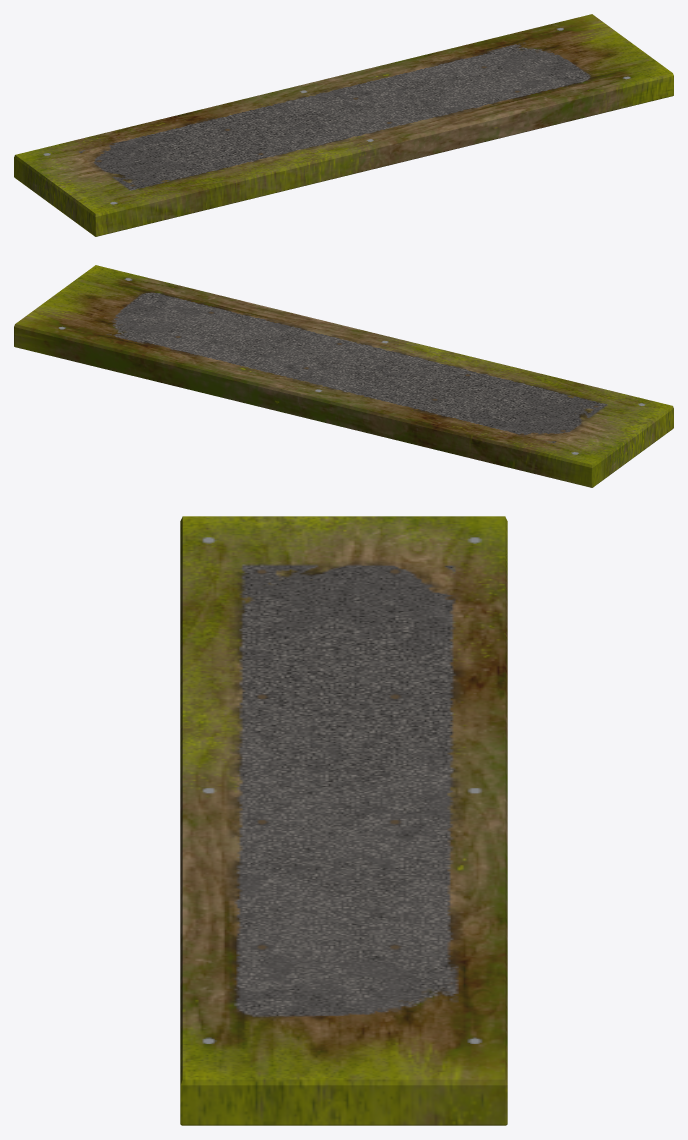
The model's file is PNW Pathway_Plank_E_Grip.glb.
3 renders of one model, top to bottom at view 1: azimuth 30°, elevation 25°; view 2: azimuth 150°, elevation 25°; view 3: azimuth 270°, elevation 25°, orthographic. The views are drawn at different scales.
Visible parts, largest first — view 1: Plank E_Grip; view 2: Plank E_Grip; view 3: Plank E_Grip.
Boxes of the visible parts, <box> form: Plank E_Grip: <box>14,14,673,236</box>; Plank E_Grip: <box>14,265,673,487</box>; Plank E_Grip: <box>180,516,507,1125</box>.
Size of the model in its own units: 1.52 by 0.0577 by 0.372.
Materials: 1 (1 with a texture image).
